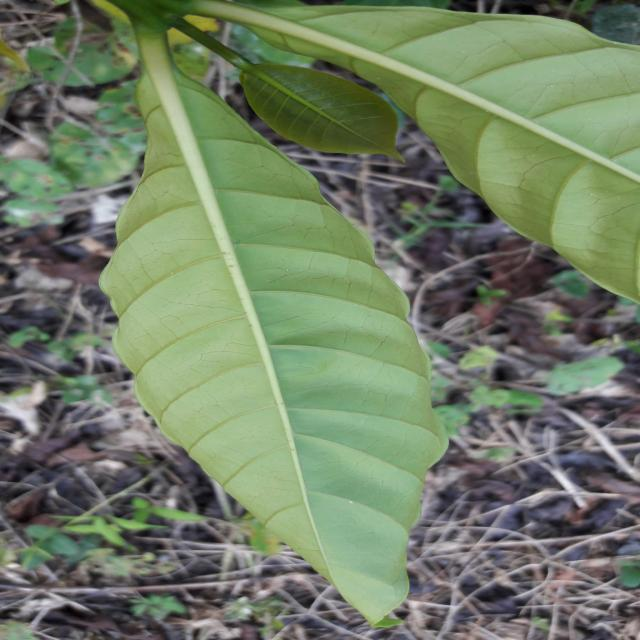Sanas: (97, 0, 449, 631)
